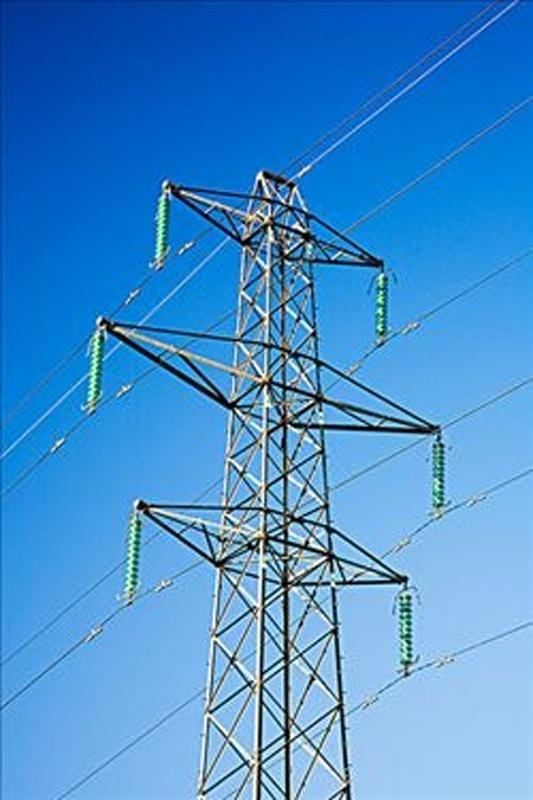power_tower: (89, 149, 434, 735)
